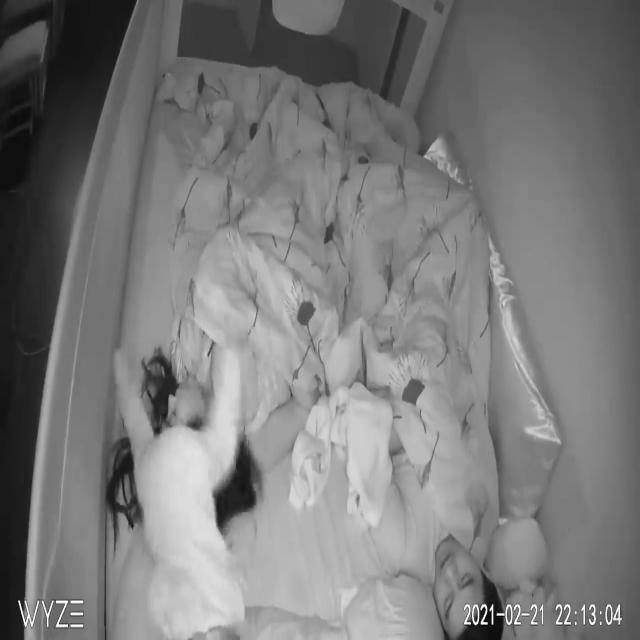baby: (112, 342, 246, 640)
